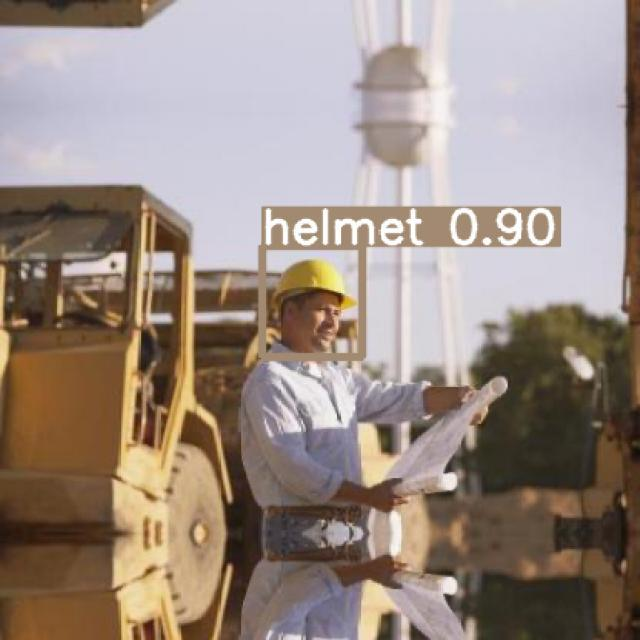Helmet: (269, 257, 357, 314)
